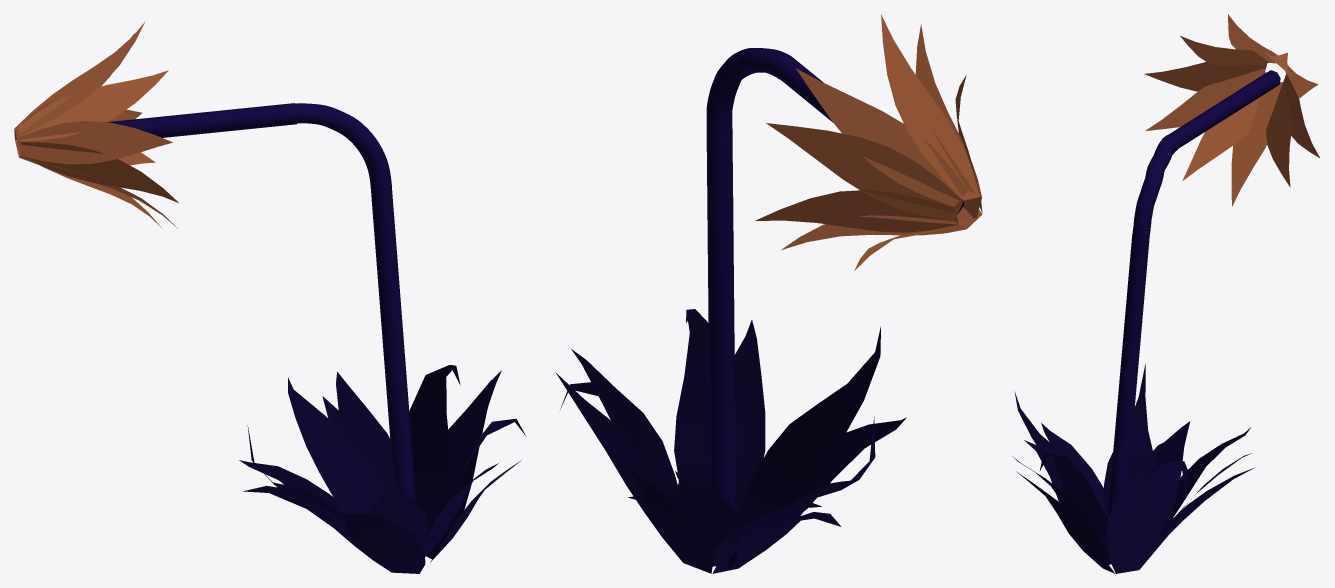
3 renders of one model, left to right at view 1: azimuth 30°, elevation 25°; view 2: azimuth 150°, elevation 25°; view 3: azimuth 270°, elevation 25°, orthographic. The views are drawn at different scales.
Parts seen in each view (by area): view 1: brush_Petal_g1_b0, brush_Icing_g1_b0; view 2: brush_Petal_g1_b0, brush_Icing_g1_b0; view 3: brush_Petal_g1_b0, brush_Icing_g1_b0.
Boxes of the visible parts, <box> form: brush_Petal_g1_b0: <box>14,21,526,573</box>; brush_Icing_g1_b0: <box>107,103,416,501</box>; brush_Petal_g1_b0: <box>555,14,982,573</box>; brush_Icing_g1_b0: <box>706,48,963,511</box>; brush_Petal_g1_b0: <box>1012,14,1319,573</box>; brush_Icing_g1_b0: <box>1107,70,1280,554</box>.
Bounding box in the file's own units: 6.26 × 7.92 × 4.71.
